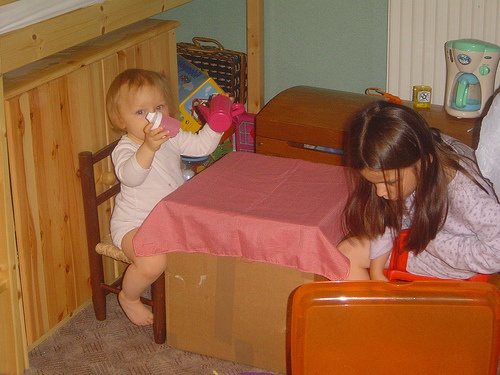head: (341, 99, 439, 200), (106, 69, 169, 141)
person: (101, 63, 235, 322), (334, 99, 496, 281)
